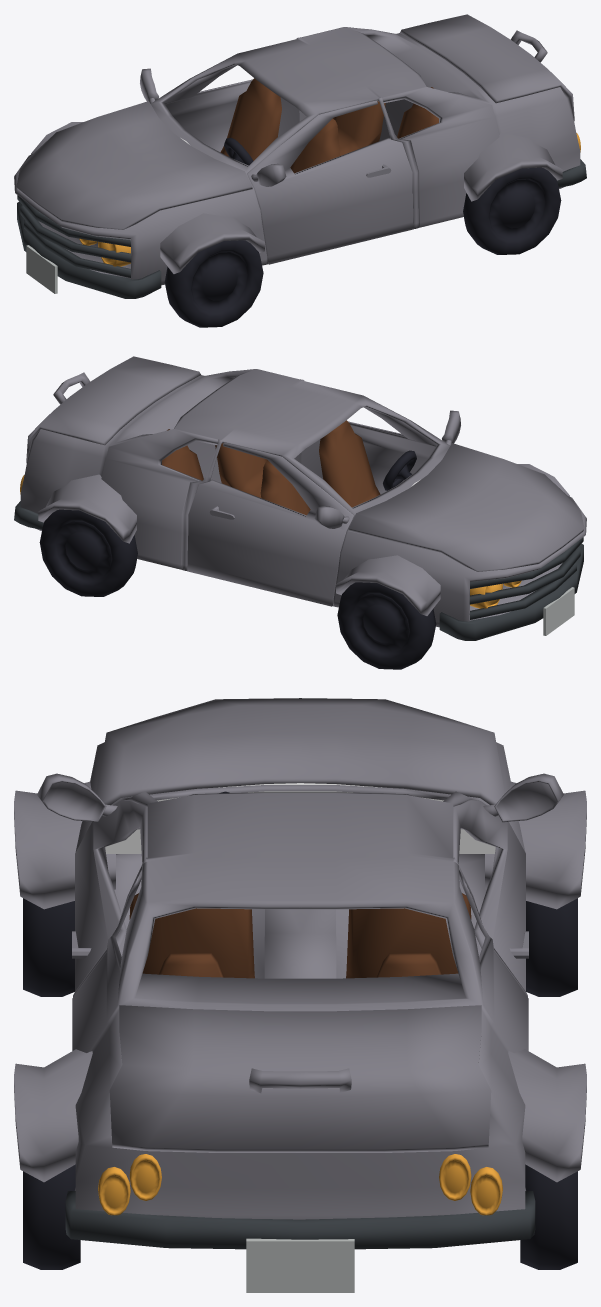
File: Carro1.fbx
3 renders of one model, top to bottom at view 1: azimuth 30°, elevation 25°; view 2: azimuth 150°, elevation 25°; view 3: azimuth 270°, elevation 25°, orthographic. The views are drawn at different scales.
Parts seen in each view (by area): view 1: carros.001, carros.002, carros.003, Cylinder, carros.004, Cube.001, Cube.009, Cube.003, Cube.004, Cube.010, Cube.008, Cube.006 (+3 smaller); view 2: carros.001, carros.002, carros.003, Cylinder, carros.004, Cube.001, Cube.009, Cube.003, Cube.004, Cube.010, Cube.008, Cube.006 (+3 smaller); view 3: carros.001, carros.004, carros.003, Cube.001, Cylinder, Cube.005, carros.002, Cube.009, Cube.007, Cylinder.001, Cube.008, Cube.010 (+1 smaller).
Boxes of the visible parts, x1,y1,x2,y2 form: carros.001: (14, 27, 580, 285); carros.002: (164, 65, 413, 264); carros.003: (16, 101, 252, 229); Cylinder: (164, 167, 561, 327); carros.004: (400, 14, 574, 120); Cube.001: (31, 122, 562, 273); Cube.009: (220, 78, 340, 173); Cube.003: (17, 195, 131, 277); Cube.004: (17, 201, 161, 298); Cube.010: (333, 87, 438, 155); Cube.008: (140, 68, 286, 186); Cube.006: (26, 245, 57, 293); carros.001: (20, 369, 586, 627); carros.002: (187, 407, 436, 606); carros.003: (348, 443, 584, 571); Cylinder: (39, 509, 436, 669); carros.004: (26, 356, 200, 462); Cube.001: (38, 464, 569, 615); Cube.009: (260, 420, 380, 515); Cube.003: (469, 537, 583, 619); Cube.004: (439, 543, 583, 640); Cube.010: (162, 429, 267, 497); Cube.008: (314, 410, 460, 528); Cube.006: (543, 587, 574, 635); carros.001: (72, 742, 528, 1219); carros.004: (109, 1005, 491, 1152); carros.003: (96, 698, 504, 805); Cube.001: (14, 781, 586, 1182); Cylinder: (23, 898, 577, 1269); Cube.005: (65, 1191, 535, 1249); carros.002: (72, 800, 528, 991); Cube.009: (129, 893, 471, 978); Cube.007: (246, 1238, 354, 1292); Cylinder.001: (98, 1154, 502, 1215); Cube.008: (37, 773, 563, 822); Cube.010: (158, 953, 442, 977).
Bounding box in the file's own units: 494 × 154 × 259.
